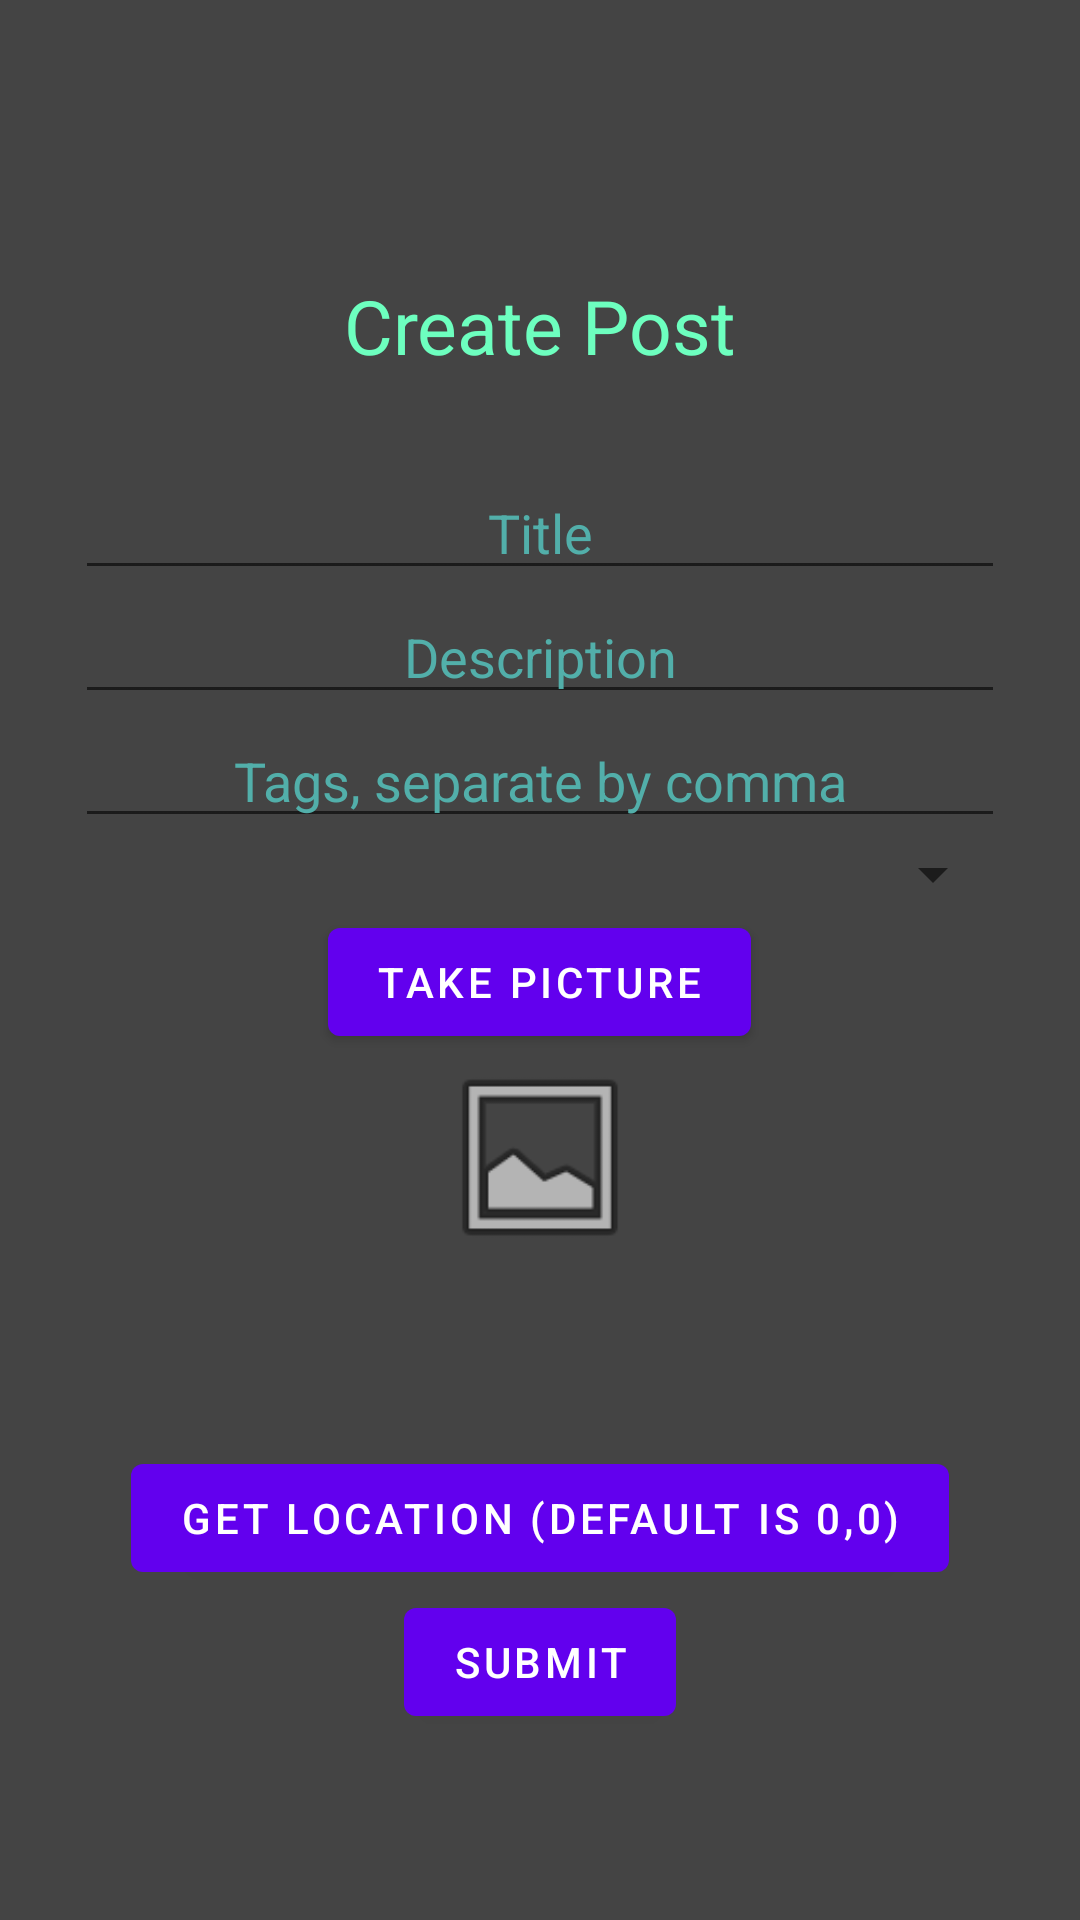

Named icons in this screenshot (1080 x 1920) and their bounding boxes, box=[x1, y1, x2, y2]:
gallery: box=[463, 1081, 617, 1234]
